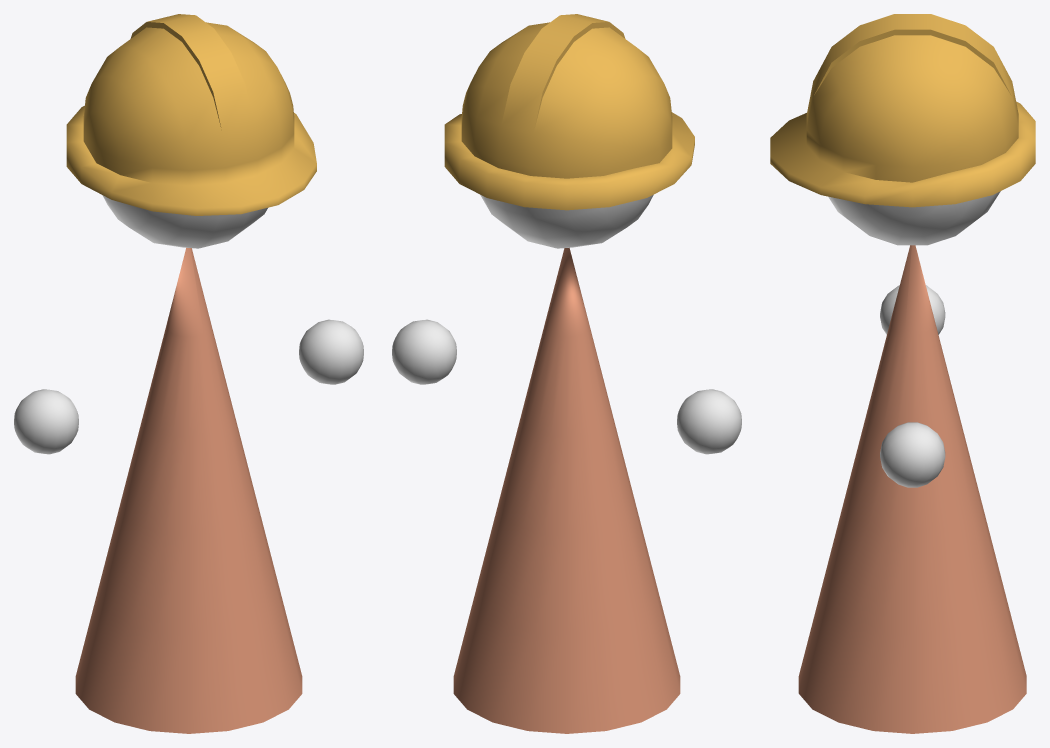
File: Character.fbx
3 views of the same model, side by side, from view 1: azimuth 30°, elevation 25°; view 2: azimuth 150°, elevation 25°; view 3: azimuth 270°, elevation 25° (orthographic).
Parts seen in each view (by area): view 1: Body, Head, Right_Hand, Left_Hand; view 2: Body, Head, Right_Hand, Left_Hand; view 3: Body, Head, Left_Hand, Right_Hand.
Boxes of the visible parts, x1=… form: Body: x1=75, y1=247, x2=302, y2=733; Head: x1=66, y1=14, x2=316, y2=248; Right_Hand: x1=14, y1=389, x2=78, y2=454; Left_Hand: x1=299, y1=319, x2=363, y2=384; Body: x1=453, y1=247, x2=680, y2=733; Head: x1=444, y1=14, x2=694, y2=248; Right_Hand: x1=677, y1=389, x2=741, y2=454; Left_Hand: x1=392, y1=319, x2=456, y2=384; Body: x1=798, y1=245, x2=1026, y2=733; Head: x1=770, y1=14, x2=1035, y2=245; Left_Hand: x1=880, y1=422, x2=945, y2=487; Right_Hand: x1=880, y1=285, x2=945, y2=334.
Size of the model in its own units: 0.96 by 1.77 by 0.641.
